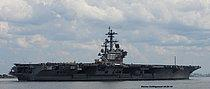MIL_Ship: (8, 30, 202, 80)
